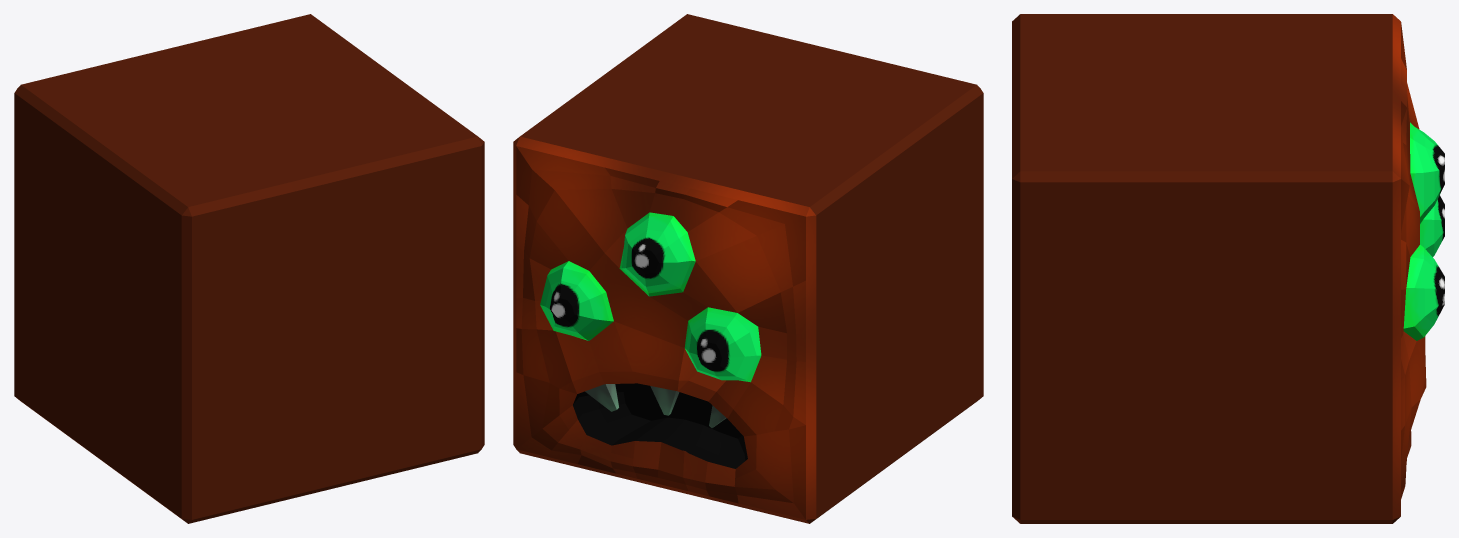
The model's file is Block Assets ThreeEyes TWO.fbx.
The picture shows the model from 3 angles, left to right: view 1: azimuth 30°, elevation 25°; view 2: azimuth 150°, elevation 25°; view 3: azimuth 270°, elevation 25°; orthographic projection. The views are drawn at different scales.
Visible parts, largest first — view 1: Block ThreeEyes TWO; view 2: Block ThreeEyes TWO; view 3: Block ThreeEyes TWO.
Part boxes in pixels (left/top/right/bottom): Block ThreeEyes TWO: left=14, top=14, right=484, bottom=523; Block ThreeEyes TWO: left=513, top=14, right=983, bottom=523; Block ThreeEyes TWO: left=1012, top=14, right=1444, bottom=523.
Size of the model in its own units: 1 by 1 by 1.11.
